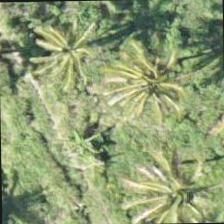Kelapa_Sawit: (107, 30, 200, 122), (18, 3, 110, 95), (110, 138, 202, 223)
